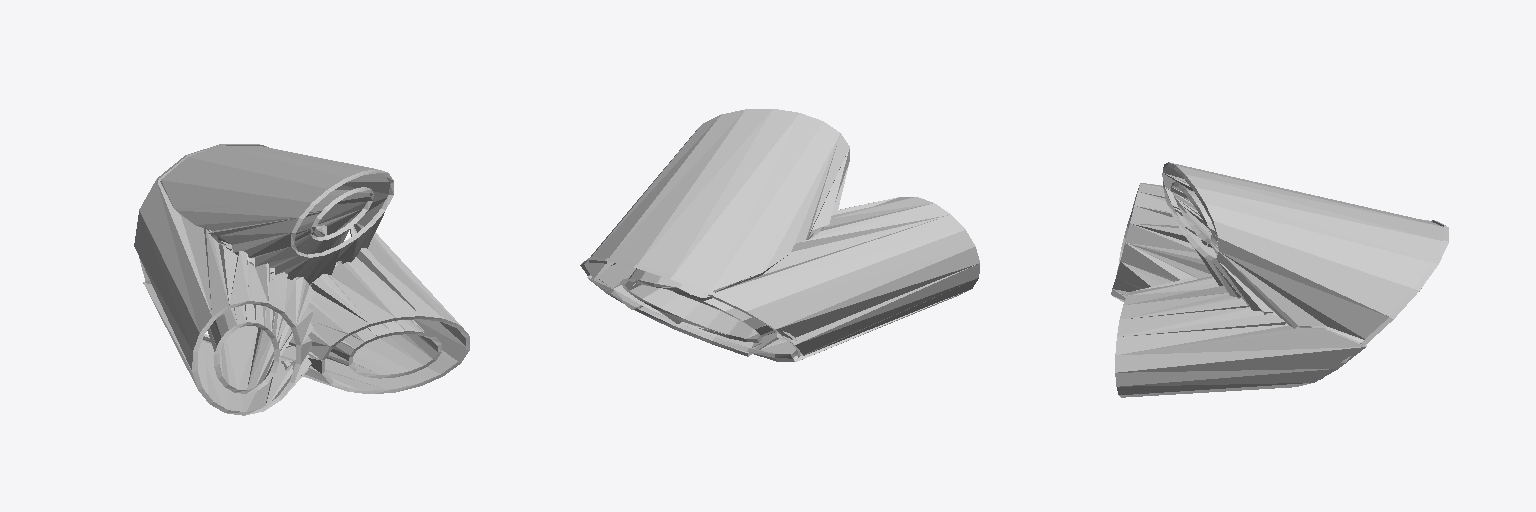
Rendered from Verbindung.obj.
3 views of the same model, side by side, from view 1: azimuth 30°, elevation 25°; view 2: azimuth 150°, elevation 25°; view 3: azimuth 270°, elevation 25° (orthographic).
Parts seen in each view (by area): view 1: Verbindung; view 2: Verbindung; view 3: Verbindung.
Part boxes in pixels (bbox=[...]): Verbindung: bbox=[134, 144, 469, 415]; Verbindung: bbox=[580, 109, 979, 361]; Verbindung: bbox=[1111, 162, 1448, 397].
Size of the model in its own units: 1706 by 1208 by 1810.